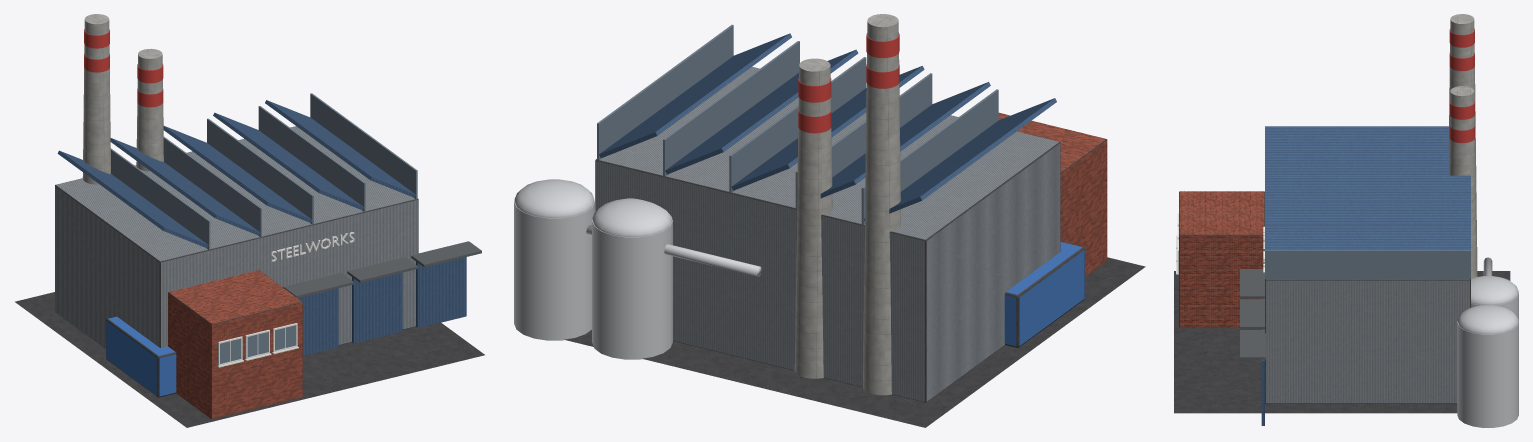
Rendered from factory.gltf.
3 renders of one model, left to right at view 1: azimuth 30°, elevation 25°; view 2: azimuth 150°, elevation 25°; view 3: azimuth 270°, elevation 25°, orthographic. The views are drawn at different scales.
Parts seen in each view (by area): view 1: factory; view 2: factory; view 3: factory.
Part boxes in pixels (x1,y1,x2,y2): factory: [15, 14, 484, 427]; factory: [514, 14, 1145, 427]; factory: [1174, 14, 1518, 427].
Bounding box in the file's own units: 4.32 × 3.6 × 4.02.
11 materials, 5 textured.
